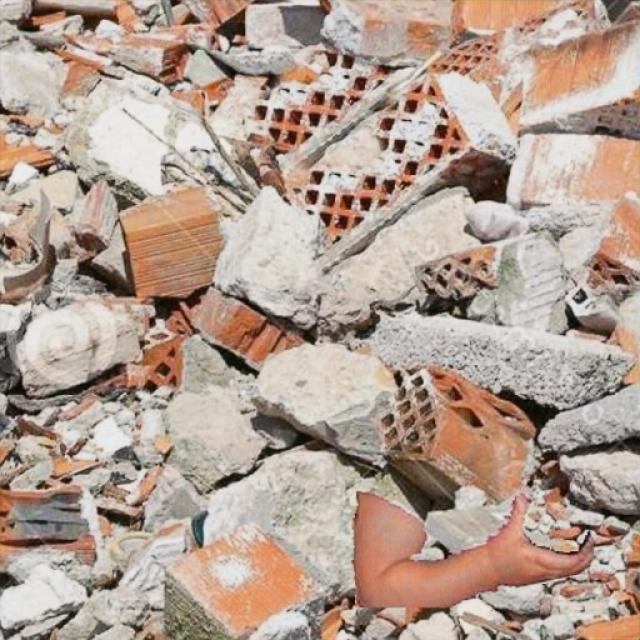Person in Rubble: (352, 492, 592, 606)
